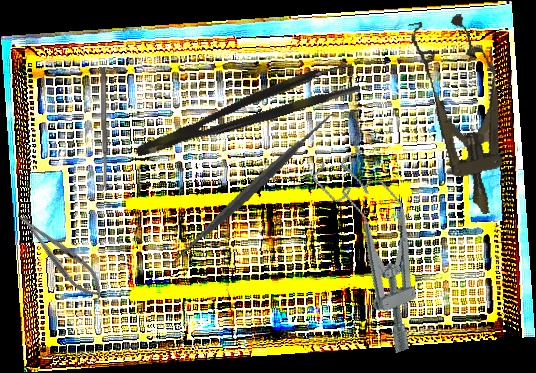Needle Holder: (11, 206, 112, 306)
Spatula Surgical: (162, 95, 340, 283), (99, 67, 109, 192)
Speculum: (308, 141, 451, 359), (404, 8, 525, 223)
Tissue Forceps: (129, 59, 361, 160)
